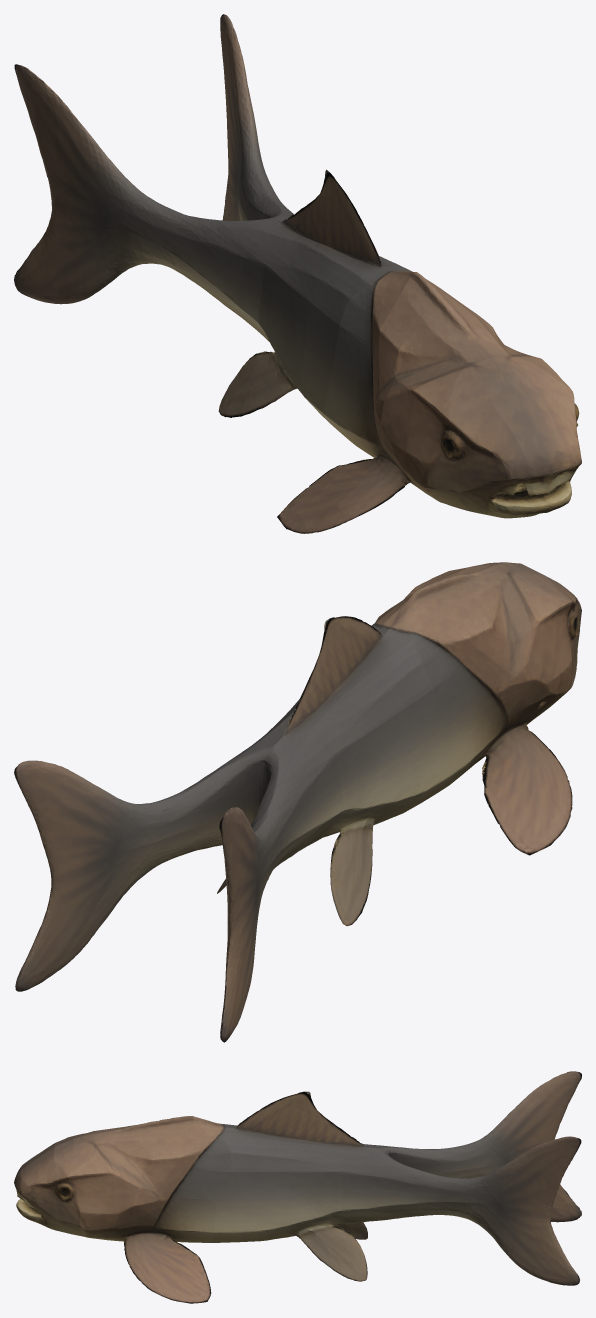
3 renders of one model, top to bottom at view 1: azimuth 30°, elevation 25°; view 2: azimuth 150°, elevation 25°; view 3: azimuth 270°, elevation 25°, orthographic. The views are drawn at different scales.
Visible parts, largest first — view 1: world; view 2: world; view 3: world.
Boxes of the visible parts, box(x1,y1,x2,y2) form: world: box(14, 14, 581, 533); world: box(14, 562, 581, 1042); world: box(14, 1071, 581, 1303).
Size of the model in its own units: 0.099 by 0.0926 by 0.28.
1 material, 1 textured.
